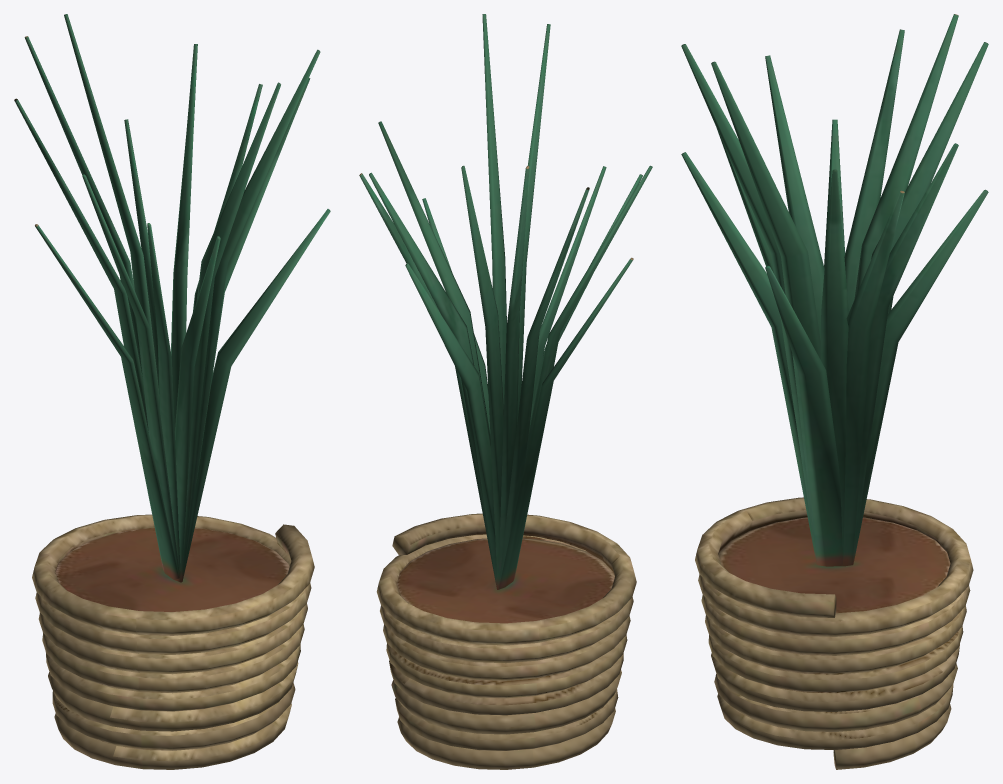
The model's file is plant_tall.glb.
3 views of the same model, side by side, from view 1: azimuth 30°, elevation 25°; view 2: azimuth 150°, elevation 25°; view 3: azimuth 270°, elevation 25° (orthographic). The views are drawn at different scales.
Visible parts, largest first — view 1: prop_plant_tall_felt; view 2: prop_plant_tall_felt; view 3: prop_plant_tall_felt.
Boxes of the visible parts, x1,y1,x2,y2 form: prop_plant_tall_felt: (14, 14, 330, 769); prop_plant_tall_felt: (359, 14, 652, 769); prop_plant_tall_felt: (681, 14, 988, 769).
Bounding box in the file's own units: 0.726 × 1.8 × 0.713.
1 material, 1 textured.
